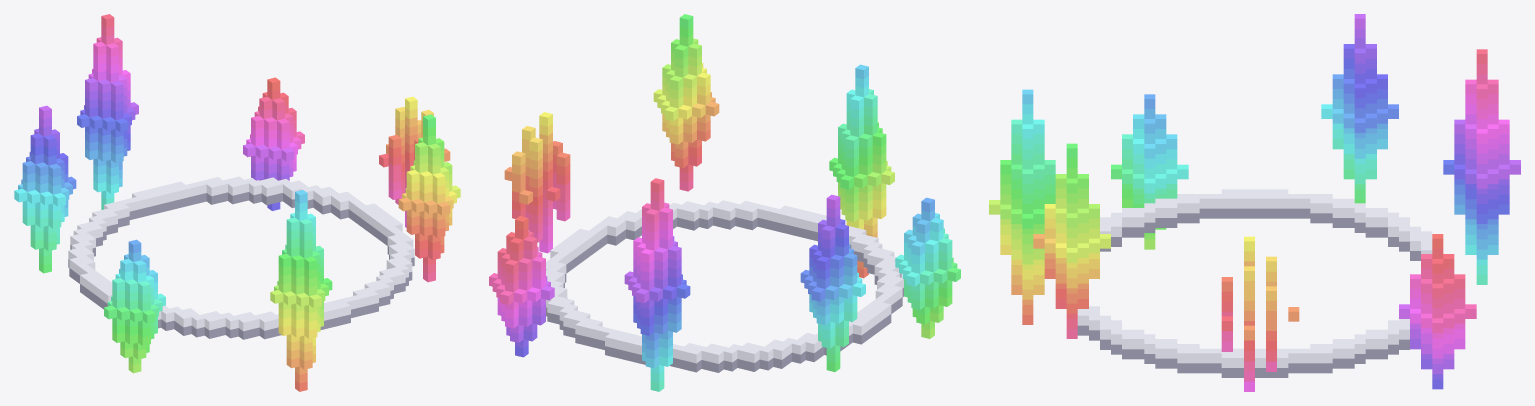
File: owner_crystal_crown_hat.glb
3 renders of one model, left to right at view 1: azimuth 30°, elevation 25°; view 2: azimuth 150°, elevation 25°; view 3: azimuth 270°, elevation 25°, orthographic. The views are drawn at different scales.
Parts seen in each view (by area): view 1: Owner Floating Crystals; view 2: Owner Floating Crystals; view 3: Owner Floating Crystals.
Boxes of the visible parts, x1,y1,x2,y2 form: Owner Floating Crystals: (14,14,460,391); Owner Floating Crystals: (489,14,960,391); Owner Floating Crystals: (989,14,1520,391).
Bounding box in the file's own units: 0.7344 × 0.4219 × 0.75.
Materials: 1 (1 with a texture image).
